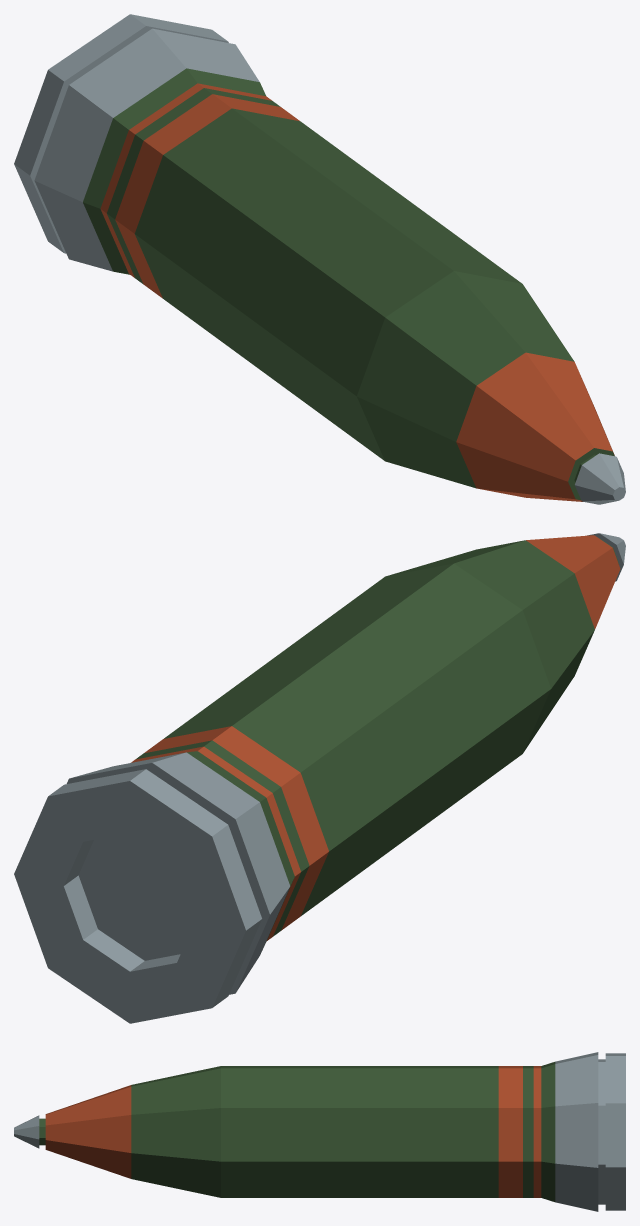
Rendered from peluru.fbx.
The picture shows the model from 3 angles, top to bottom: view 1: azimuth 30°, elevation 25°; view 2: azimuth 150°, elevation 25°; view 3: azimuth 270°, elevation 25°; orthographic projection. The views are drawn at different scales.
Visible parts, largest first — view 1: Cylinder; view 2: Cylinder; view 3: Cylinder.
Part boxes in pixels (x1,y1,x2,y2): Cylinder: [14, 14, 625, 504]; Cylinder: [14, 533, 625, 1023]; Cylinder: [14, 1052, 625, 1211].
Bounding box in the file's own units: 131 × 131 × 472.
